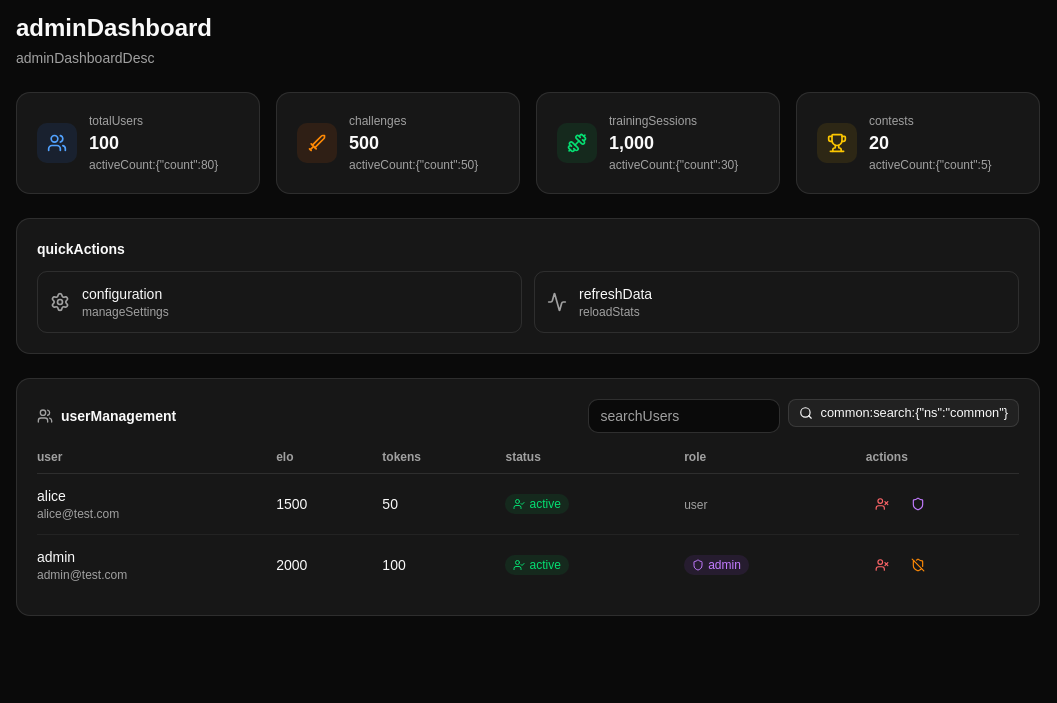
Scenario: AdminOverviewPage › shows error when toggle active fails
The width and height of the screenshot is (1057, 703).
Expected: the text "alice" is shown, [37, 488, 66, 504]
Click the button named "disableUser" in the row of "alice@test.com" at (882, 504), box [866, 490, 898, 518]
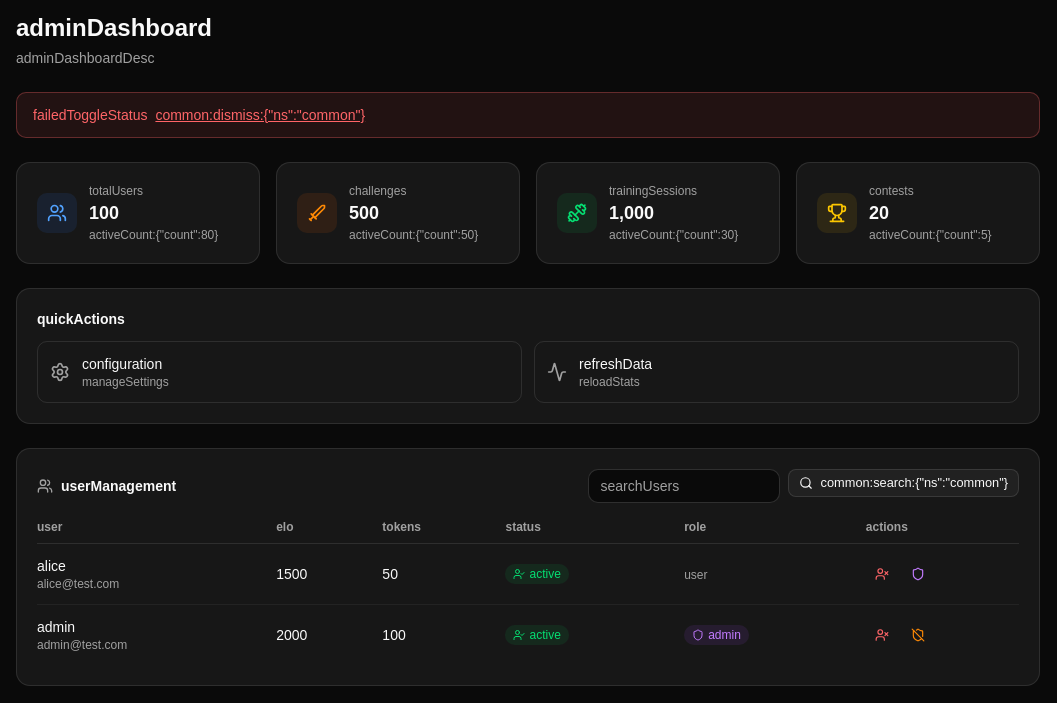
Expected: the text "failedToggleStatus" is shown, [33, 107, 147, 123]
